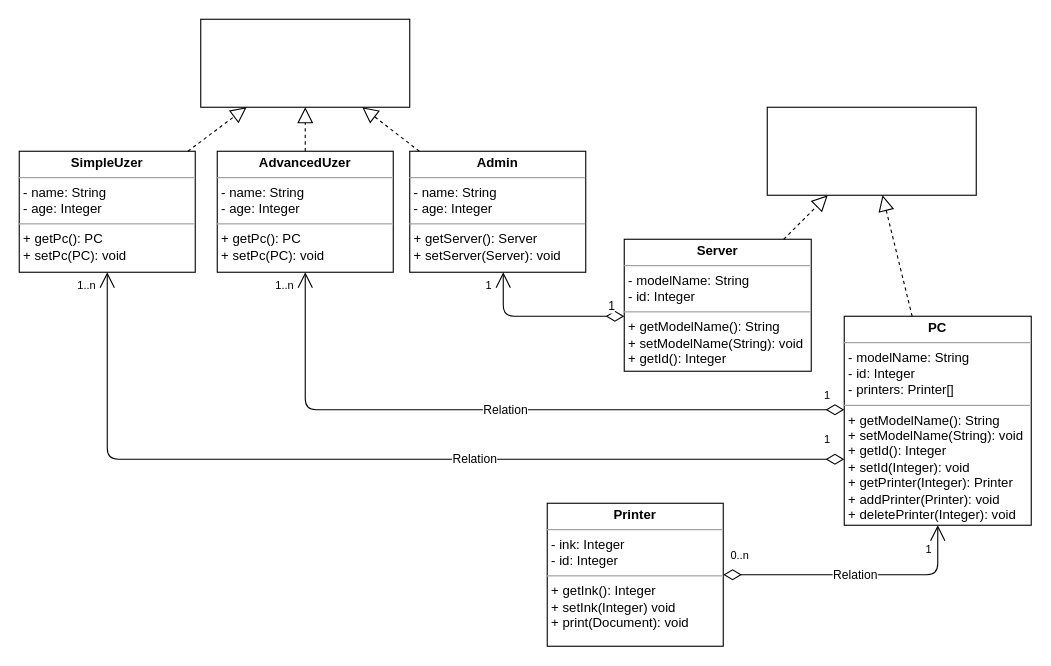
Image size: 1051x666. Some labels were removed from this diagram. Here are the shapes that lost their labels. From the top down, the centre of each, then its label:
pixel 305 62: <<Interface>> Uzer + getName(): String + setName(String): void
pixel 871 150: <<Interface>> Computer + start(): void + stop(): void
